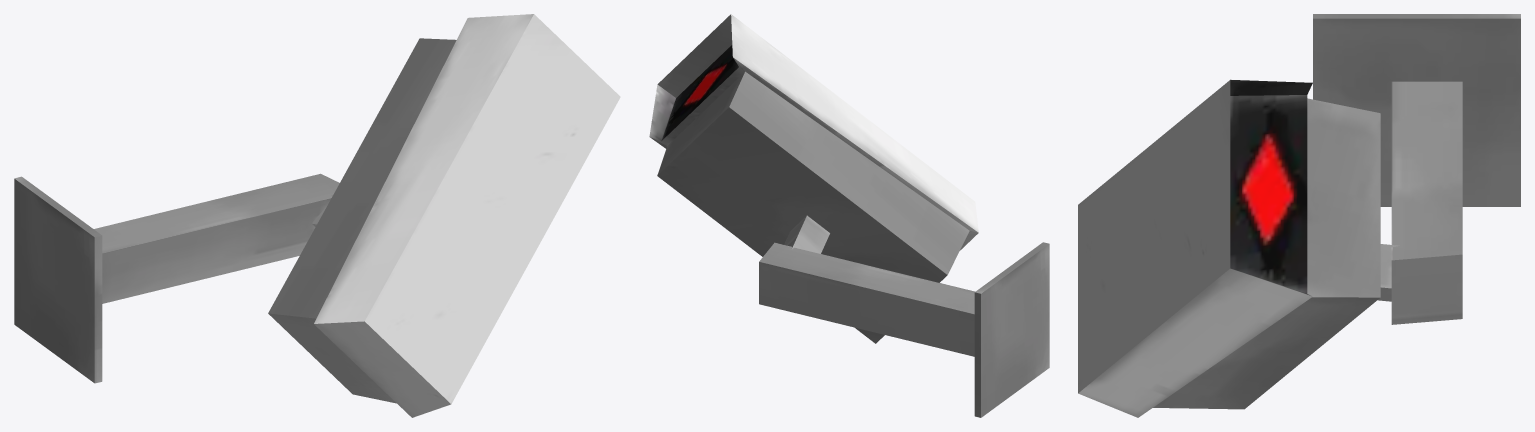
File: cctvCamera.glb
3 views of the same model, side by side, from view 1: azimuth 30°, elevation 25°; view 2: azimuth 150°, elevation 25°; view 3: azimuth 270°, elevation 25° (orthographic). The views are drawn at different scales.
Parts seen in each view (by area): view 1: Cube; view 2: Cube; view 3: Cube.
Part boxes in pixels (bbox=[...]): Cube: bbox=[14, 14, 620, 417]; Cube: bbox=[649, 14, 1049, 417]; Cube: bbox=[1078, 14, 1520, 417].
Size of the model in its own units: 62.4 by 41.24 by 37.6.
1 material, 1 textured.
